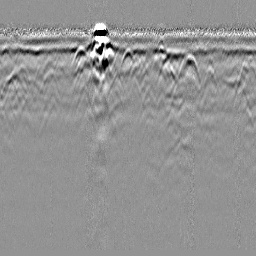cavity: (120, 46, 135, 71)
